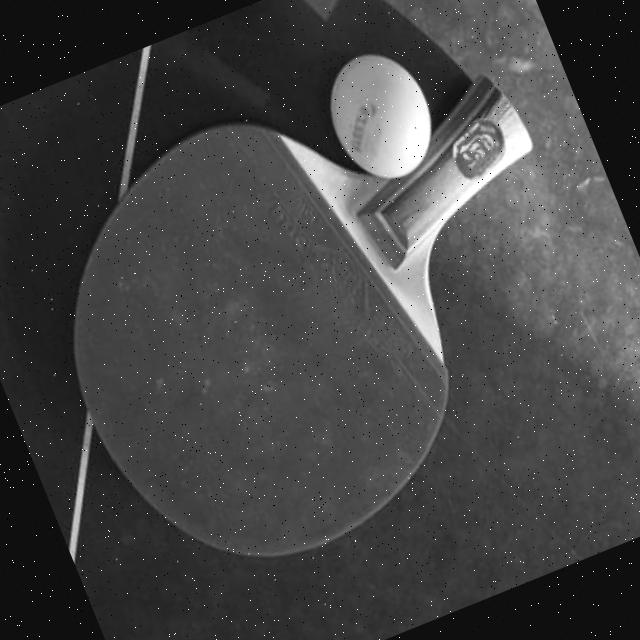ping-pong-ball: (303, 35, 452, 202)
